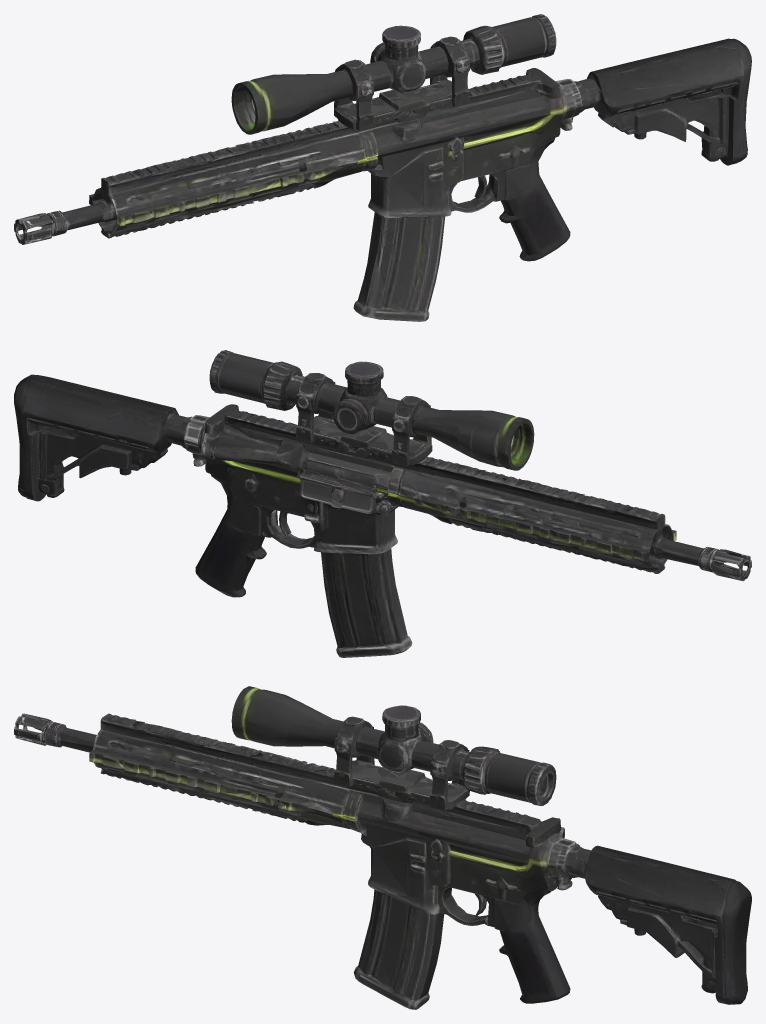
Rendered from gun_dmr.glb.
The picture shows the model from 3 angles, top to bottom: view 1: azimuth 30°, elevation 25°; view 2: azimuth 150°, elevation 25°; view 3: azimuth 330°, elevation 25°; orthographic projection.
Parts seen in each view (by area): view 1: Mesh_0; view 2: Mesh_0; view 3: Mesh_0.
Boxes of the visible parts, <box> form: Mesh_0: <box>14,14,751,321</box>; Mesh_0: <box>14,350,751,657</box>; Mesh_0: <box>14,686,751,1009</box>.
Bounding box in the file's own units: 1.9 × 0.72 × 0.1788.
Materials: 1 (1 with a texture image).
